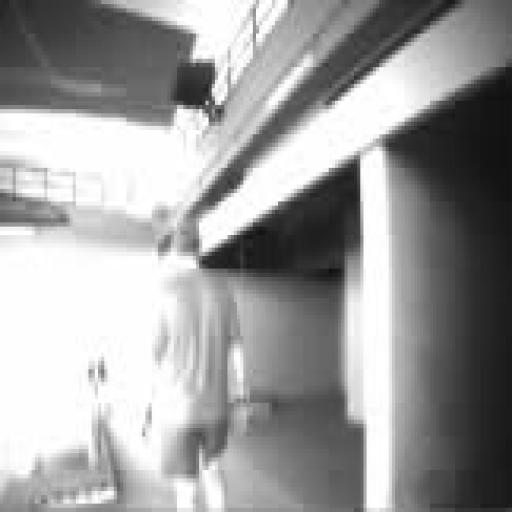human: (149, 219, 246, 511)
